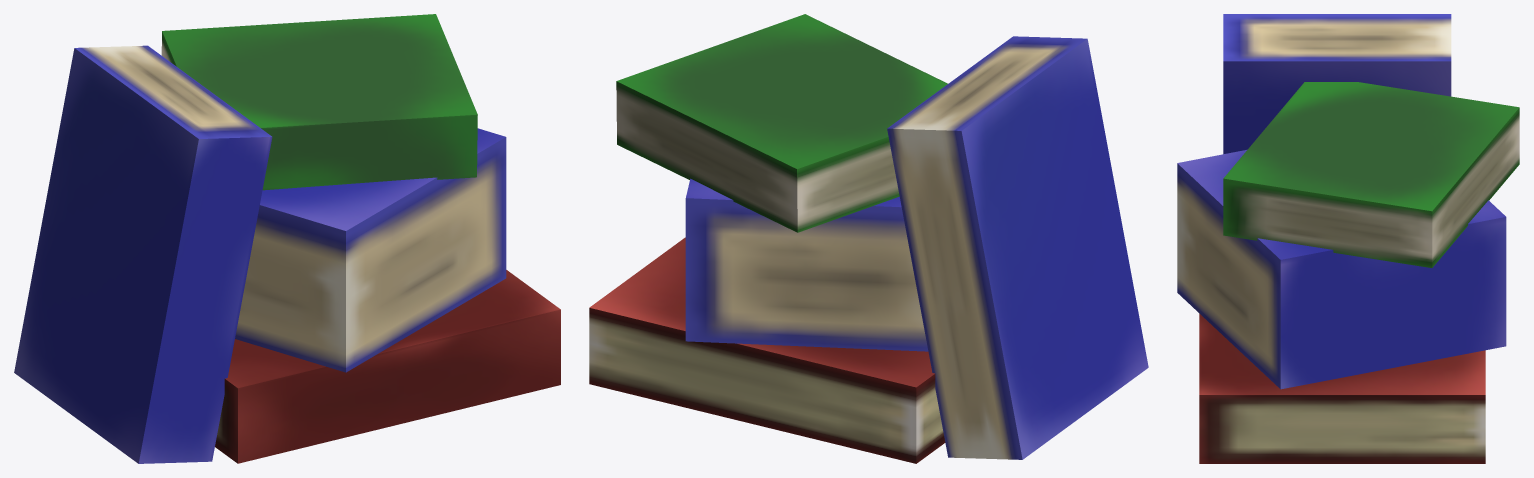
The model's file is Book_BookShelf.fbx.
The picture shows the model from 3 angles, left to right: view 1: azimuth 30°, elevation 25°; view 2: azimuth 150°, elevation 25°; view 3: azimuth 270°, elevation 25°; orthographic projection. The views are drawn at different scales.
Visible parts, largest first — view 1: Cube.002; view 2: Cube.002; view 3: Cube.002.
Part boxes in pixels (box(x1,y1,x2,y2)): Cube.002: box(14, 14, 560, 463); Cube.002: box(589, 14, 1148, 463); Cube.002: box(1177, 14, 1519, 463).
Size of the model in its own units: 150 by 113 by 118.
1 material, 1 textured.
